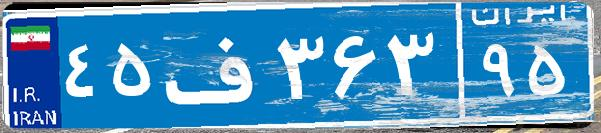3: (385, 28, 445, 110), (273, 28, 330, 110)
4: (57, 26, 110, 107)
5: (110, 28, 158, 105), (525, 38, 570, 115)
6: (330, 28, 385, 110)
9: (475, 38, 525, 113)
ف: (158, 15, 273, 115)
